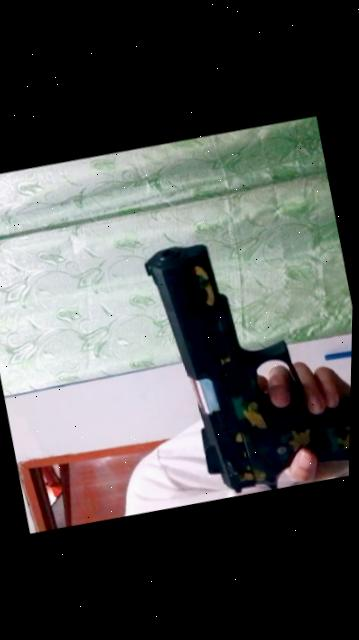pistol: (124, 189, 356, 508)
